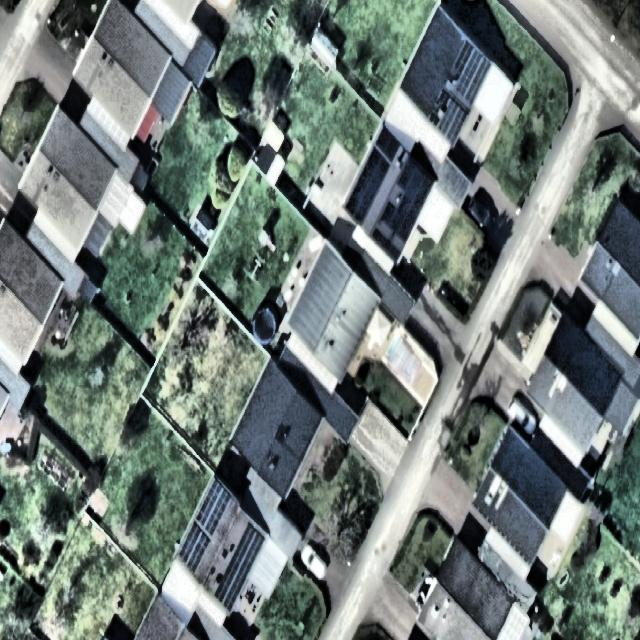roof_pv: (178, 522, 211, 578), (397, 156, 436, 198), (381, 200, 422, 238), (341, 178, 370, 228), (198, 479, 232, 521), (361, 141, 389, 192), (237, 523, 268, 554), (215, 582, 242, 614), (223, 554, 256, 580), (376, 128, 401, 162)
